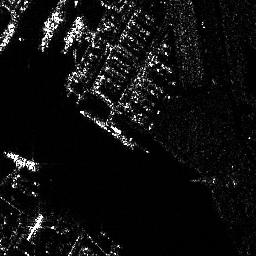ship: (79, 108, 132, 147), (62, 14, 84, 53), (39, 14, 61, 52), (4, 151, 38, 172)
